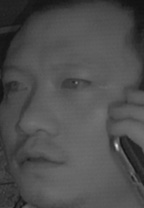eye: (59, 73, 91, 94), (3, 75, 30, 95)
mouth: (14, 142, 67, 176)
